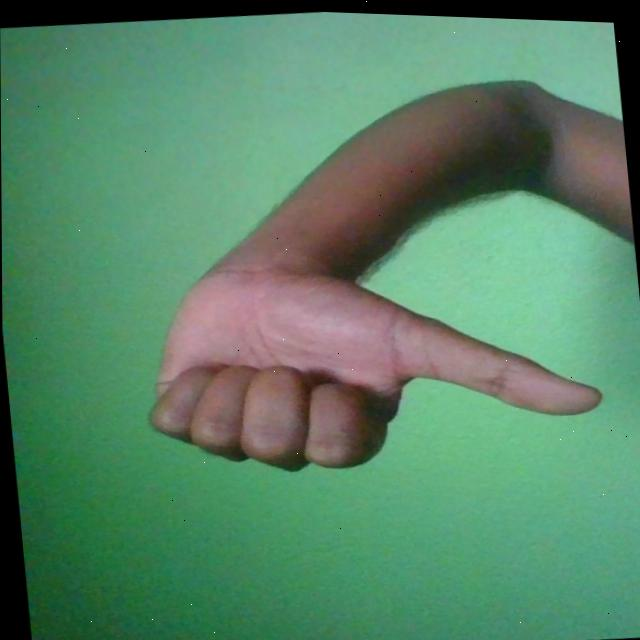Dislike: (129, 221, 607, 487)
